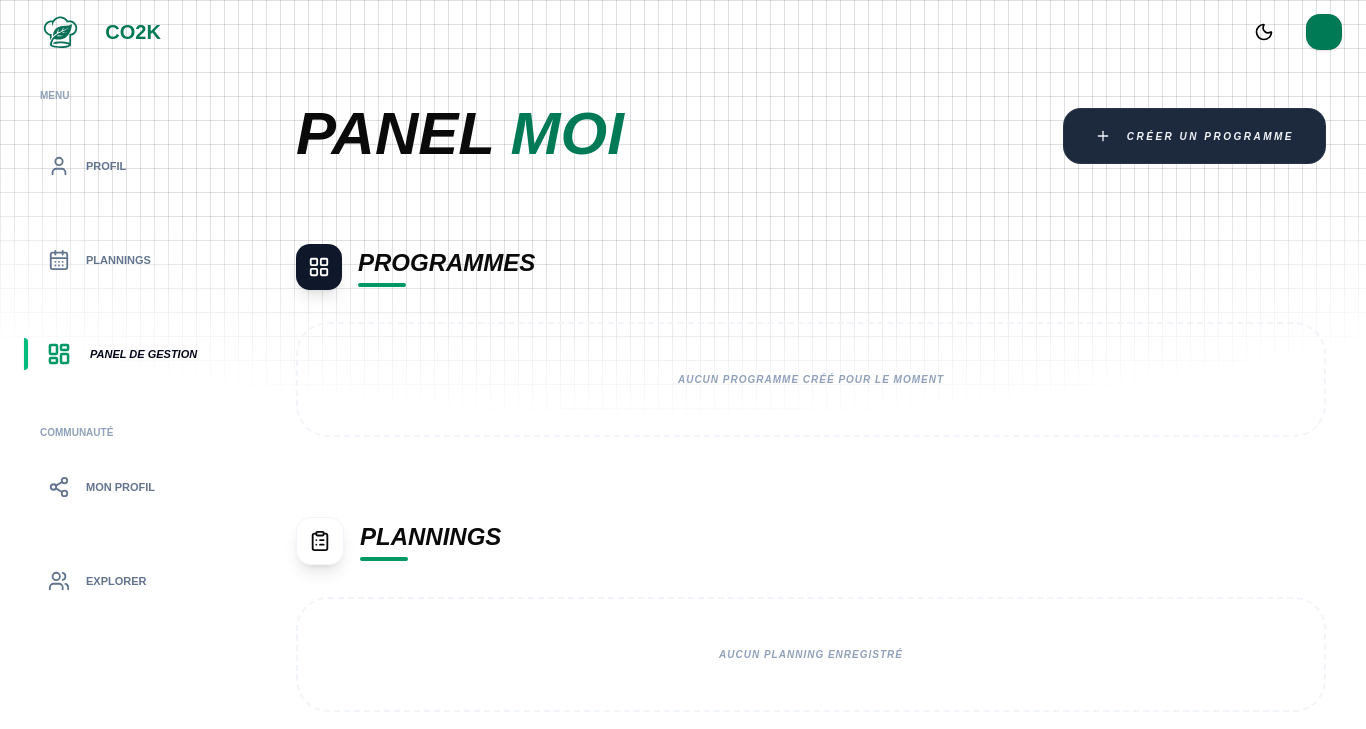
Test case: Test Page Communauté › Permet de revenir au flux global depuis un profil
This screenshot has width=1366, height=729.
Click the button "Explorer": (128, 581) [24, 542, 232, 620]
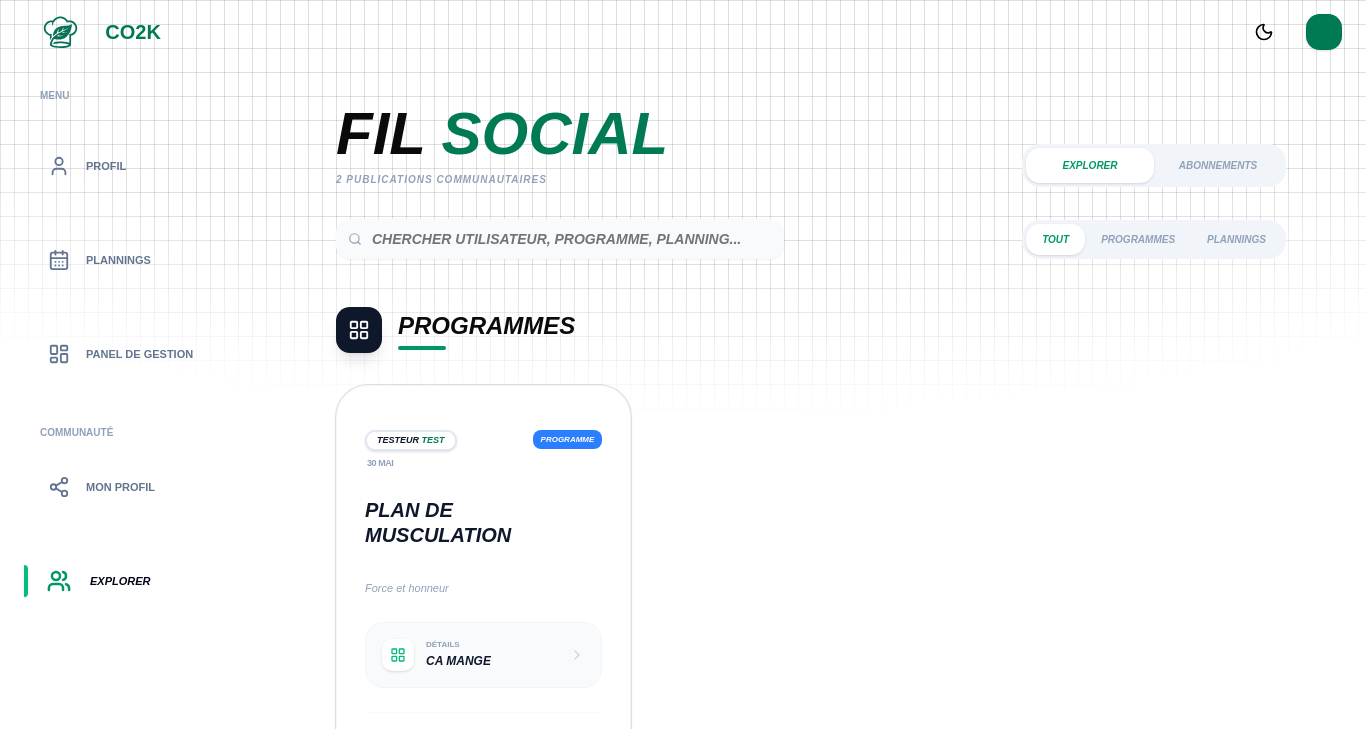
Click the button "testeur test": (411, 441) [365, 430, 457, 451]
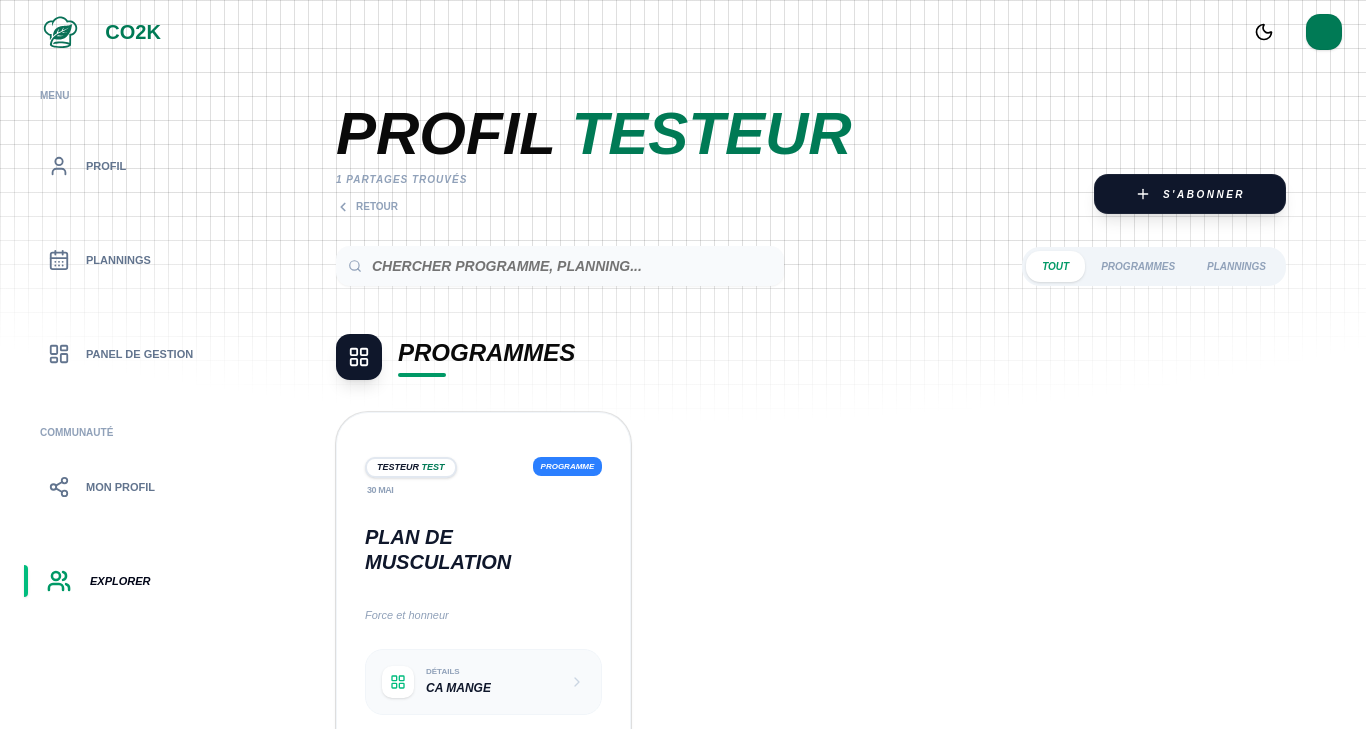
expect the button "Retour" is shown: met
Click the button "Retour": (367, 207) [336, 199, 398, 214]
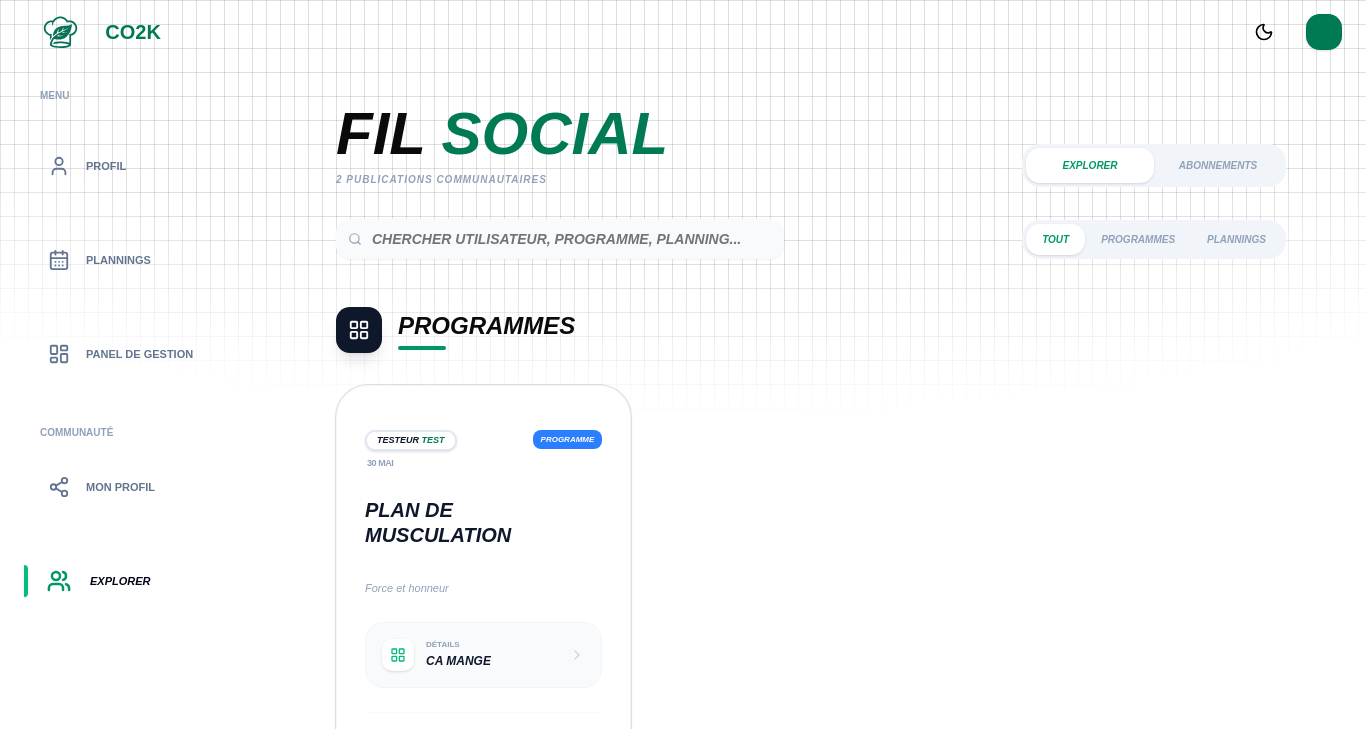
expect the heading "Fil Social" is shown: met, box [336, 104, 668, 164]
